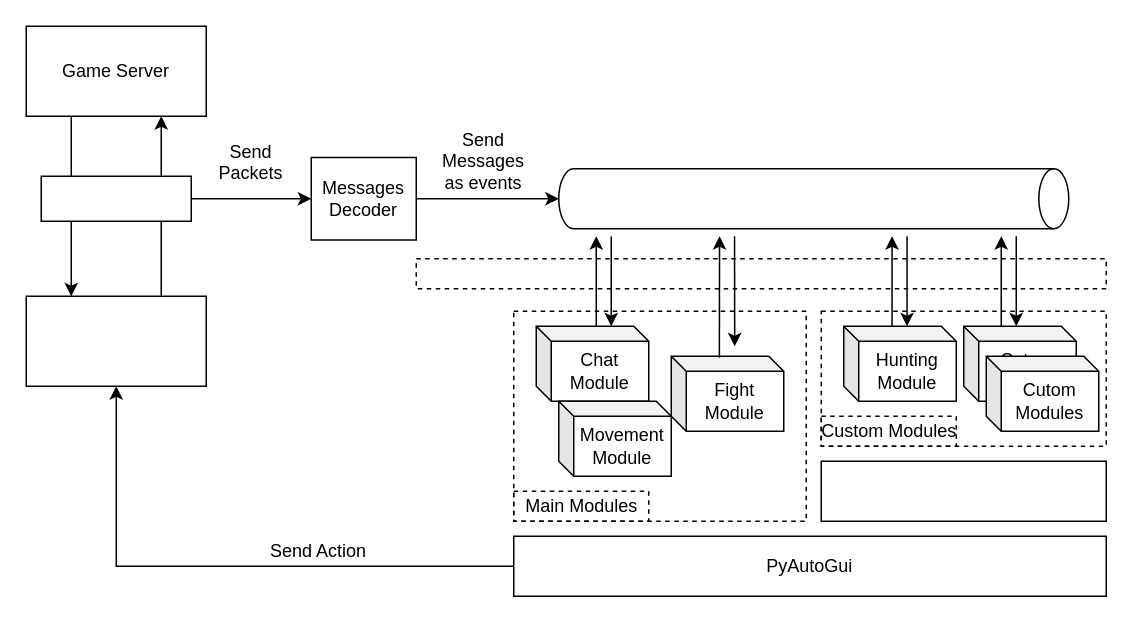
Some shapes in this 1133 by 623 pixel diagram are drawn without their labels. Here are the shapes that lost their labels. From the top down, the centre of each, then its label:
[115,198]: Scapy
[813,198]: BotCore (Event Listener)
[760,273]: Interact with events
[115,340]: Game Client
[963,490]: Db Layer
